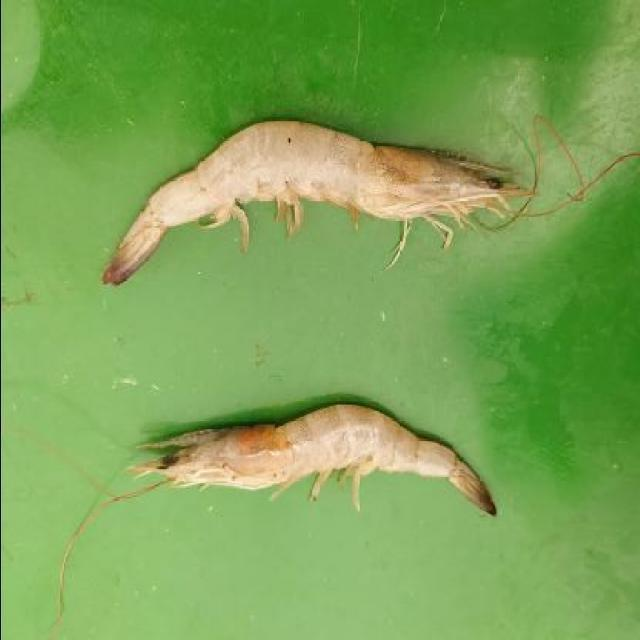shrimp: (92, 116, 560, 297), (118, 396, 514, 529)
